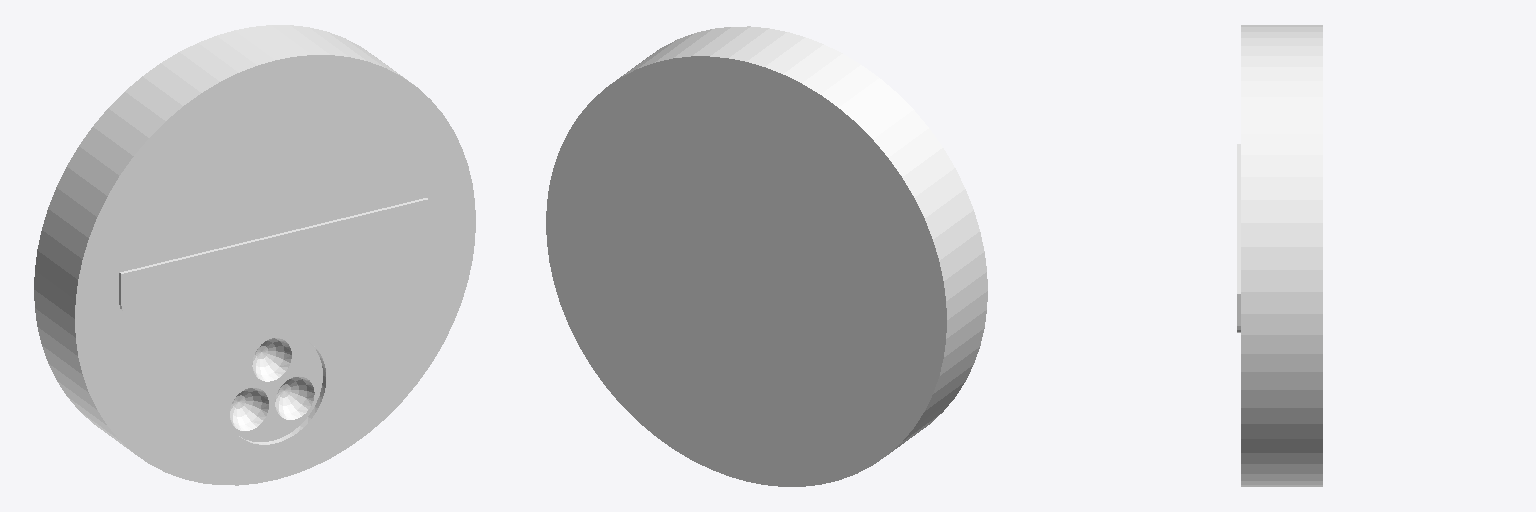
Rendered from registro.obj.
3 views of the same model, side by side, from view 1: azimuth 30°, elevation 25°; view 2: azimuth 150°, elevation 25°; view 3: azimuth 270°, elevation 25° (orthographic).
Parts seen in each view (by area): view 1: object_2, object_1; view 2: object_2; view 3: object_2, object_1.
Part boxes in pixels (bbox=[...]): object_2: bbox=[34, 25, 475, 485]; object_1: bbox=[119, 198, 428, 313]; object_2: bbox=[546, 26, 987, 486]; object_2: bbox=[1241, 25, 1322, 486]; object_1: bbox=[1237, 144, 1240, 332].
Size of the model in its own units: 49.52 by 49.52 by 9.19.